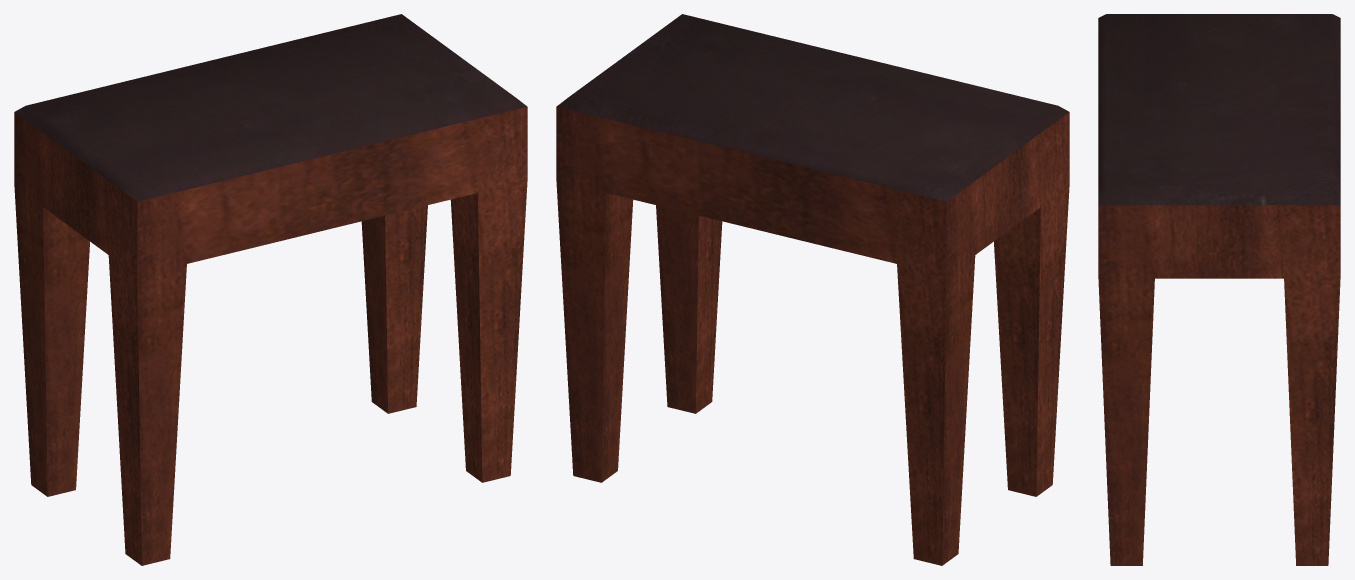
The model's file is grand_piano_stool.DAE.
3 renders of one model, left to right at view 1: azimuth 30°, elevation 25°; view 2: azimuth 150°, elevation 25°; view 3: azimuth 270°, elevation 25°, orthographic.
Parts seen in each view (by area): view 1: stool; view 2: stool; view 3: stool.
Boxes of the visible parts, left/top/right/bottom form: stool: left=14, top=14, right=527, bottom=565; stool: left=556, top=14, right=1069, bottom=565; stool: left=1098, top=14, right=1340, bottom=565.
Bounding box in the file's own units: 0.7245 × 0.6718 × 0.3952.
